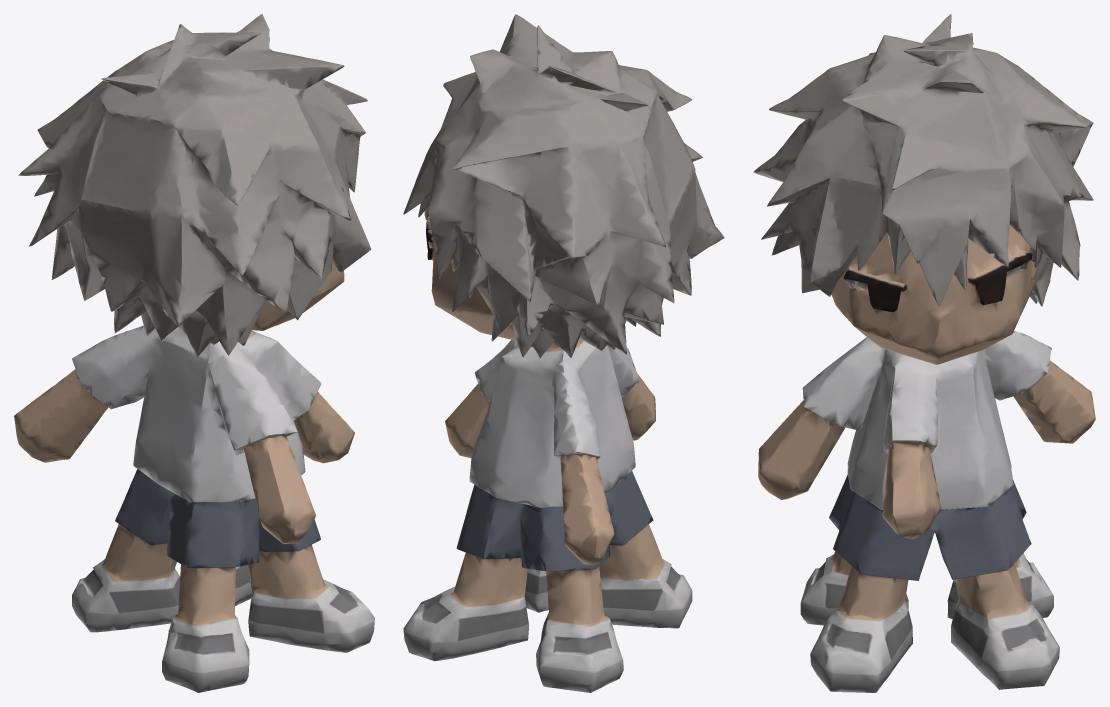
Rendered from dressed.glb.
The picture shows the model from 3 angles, left to right: view 1: azimuth 30°, elevation 25°; view 2: azimuth 150°, elevation 25°; view 3: azimuth 270°, elevation 25°; orthographic projection. The views are drawn at different scales.
Parts seen in each view (by area): view 1: tripo_node_ce013028-a2b9-4d4d-99c1-23efbf4f90e3; view 2: tripo_node_ce013028-a2b9-4d4d-99c1-23efbf4f90e3; view 3: tripo_node_ce013028-a2b9-4d4d-99c1-23efbf4f90e3.
Part boxes in pixels (<box>): tripo_node_ce013028-a2b9-4d4d-99c1-23efbf4f90e3: <box>14,14,374,692</box>; tripo_node_ce013028-a2b9-4d4d-99c1-23efbf4f90e3: <box>403,14,724,692</box>; tripo_node_ce013028-a2b9-4d4d-99c1-23efbf4f90e3: <box>753,14,1095,692</box>.
Size of the model in its own units: 0.5014 by 1 by 0.5122.
1 material, 1 textured.
